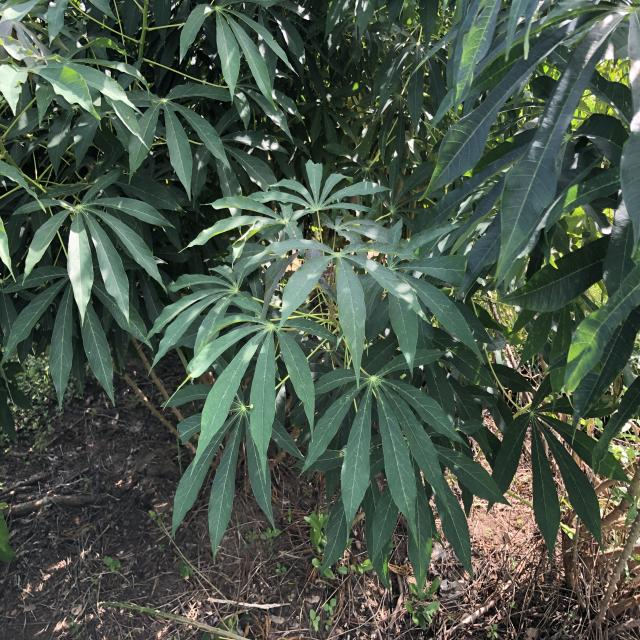Mosca: (392, 367, 412, 389), (348, 219, 364, 233), (243, 402, 259, 415), (289, 228, 302, 244)
